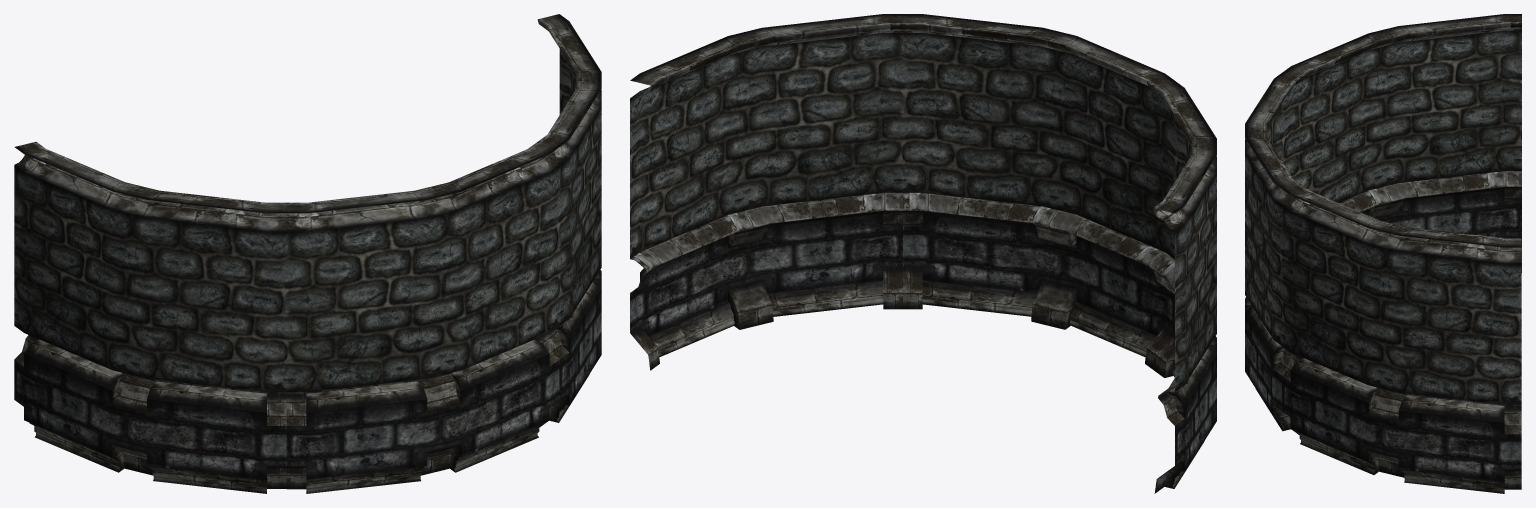
File: default_ushape01.DAE
3 renders of one model, left to right at view 1: azimuth 30°, elevation 25°; view 2: azimuth 150°, elevation 25°; view 3: azimuth 270°, elevation 25°, orthographic. The views are drawn at different scales.
Visible parts, largest first — view 1: Object071; view 2: Object071; view 3: Object071.
Boxes of the visible parts, left/top/right/bottom form: Object071: left=14, top=14, right=601, bottom=493; Object071: left=630, top=14, right=1216, bottom=493; Object071: left=1245, top=14, right=1521, bottom=493.
Bounding box in the file's own units: 8 × 4 × 4.
